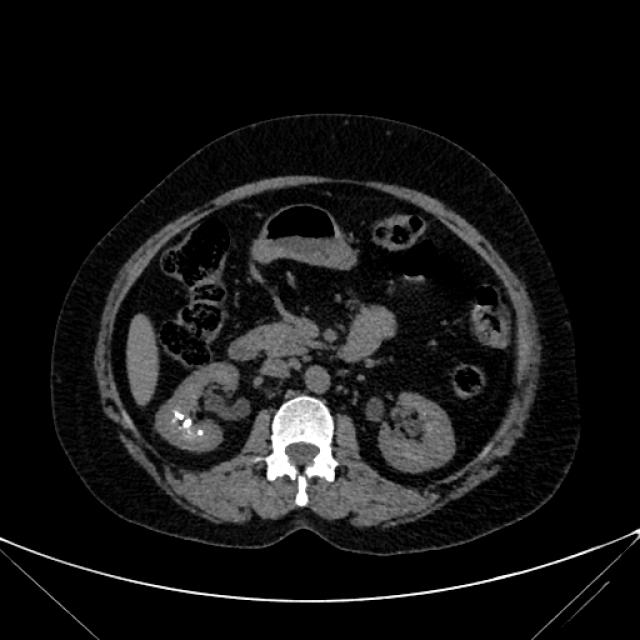kidney: (150, 358, 252, 454), (367, 378, 462, 479)
stone: (180, 412, 198, 433), (169, 404, 187, 422), (191, 425, 208, 438)
